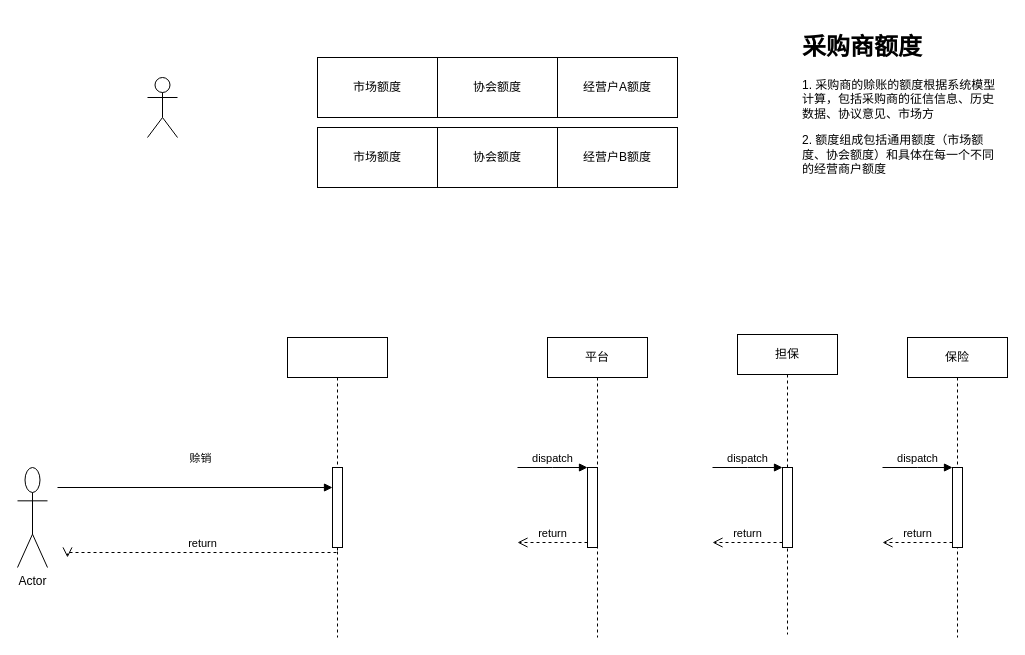
The diagram is 1025 pixels wide and 655 high, and some of its shapes have lost their labels. Here are the shapes that lost their labels. From the top down, the centre of each, then its label:
point (162, 107): 采购商
point (337, 487): 经营户A
